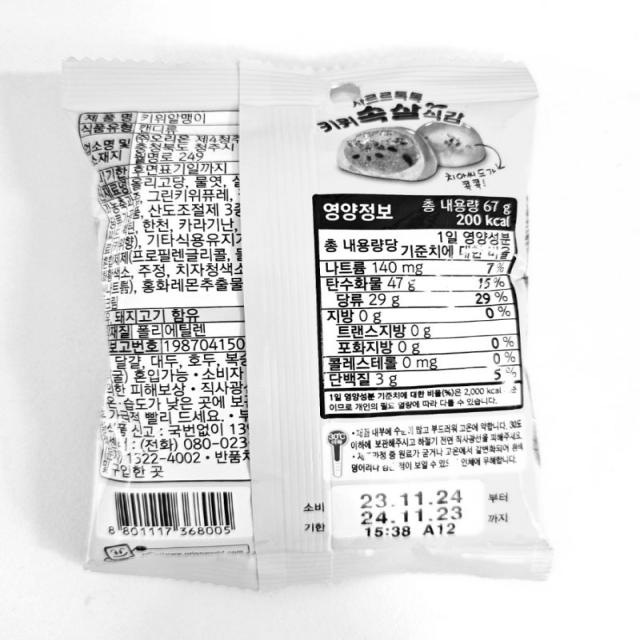Nutrition Label: (308, 189, 528, 415)
